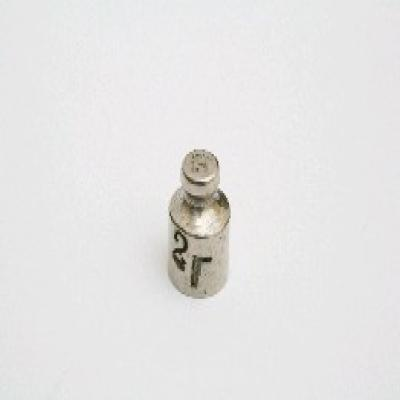technique: (166, 149, 232, 301)
